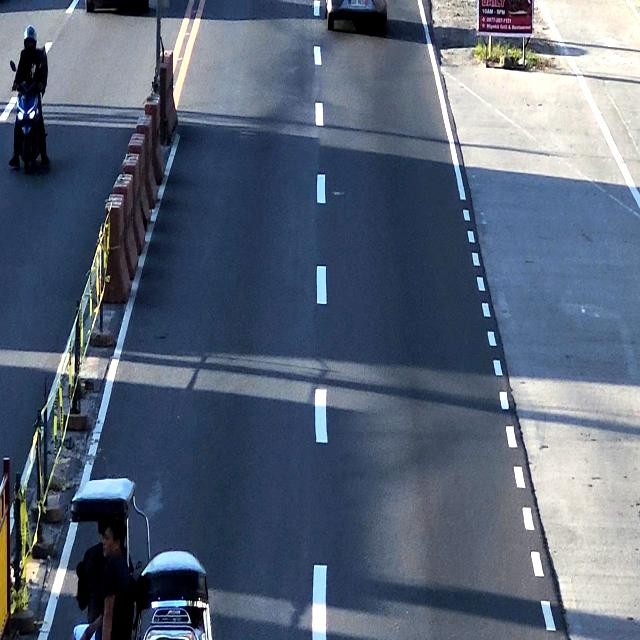Tricycle: (68, 481, 209, 640)
